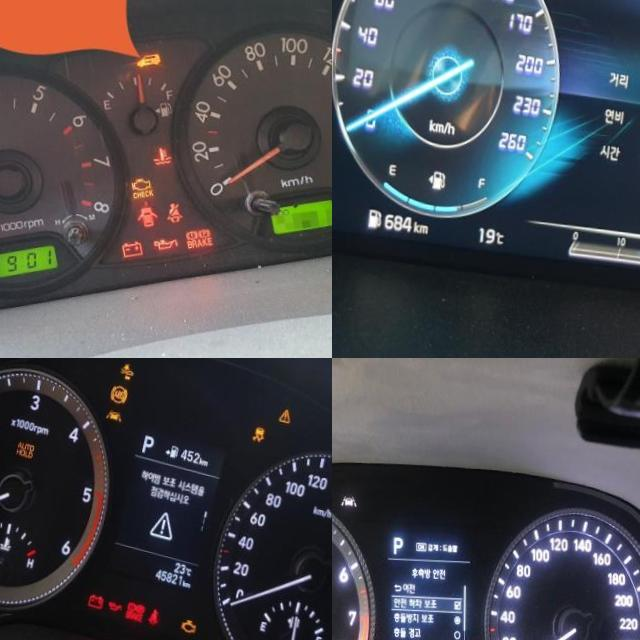Central Warning lamp: (279, 402, 293, 419)
Doors: (135, 200, 159, 224)
Engine cooling system: (151, 140, 173, 162)
LaneCenteringOff: (105, 403, 124, 419), (341, 491, 357, 505)
